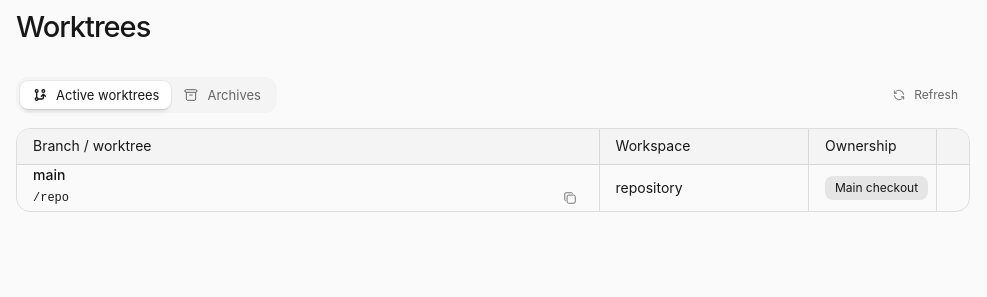
Test: keeps previously loaded rows visible when refresh fails
This screenshot has width=987, height=297.
Expected: the text "Main checkout" is shown, [835,180,918,196]
Click the button with aria-label "Refresh worktrees and archives". click: click(925, 94)
box: [880,80,970,108]
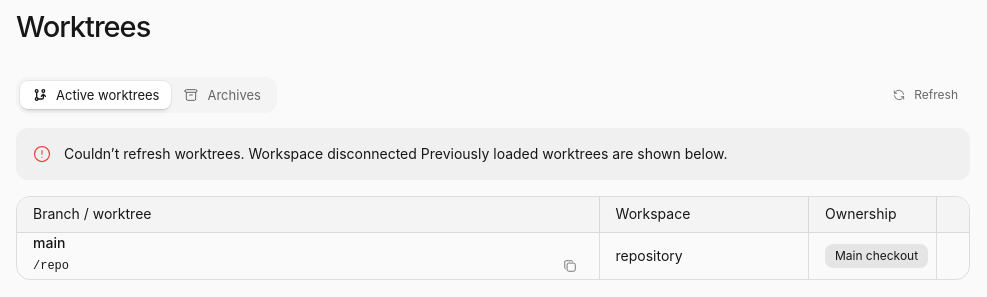
Expected: the text "Main checkout" is shown, [835,248,918,264]
Expected: the message shows "Previously loaded worktrees", [417,144,728,162]
